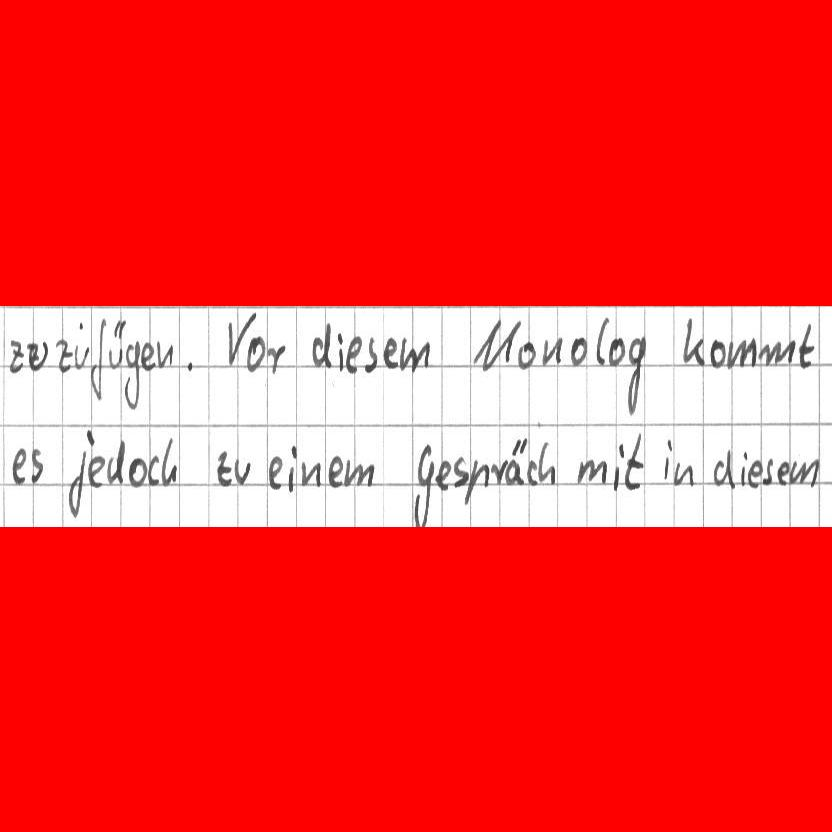Char: (470, 318, 520, 374), (66, 429, 93, 518), (412, 441, 433, 530), (625, 332, 646, 417), (222, 312, 250, 368), (89, 316, 107, 401), (122, 339, 141, 411), (623, 431, 646, 490), (463, 458, 491, 504), (680, 315, 705, 366), (724, 335, 759, 371), (397, 335, 430, 373), (309, 320, 335, 368), (757, 337, 797, 367), (712, 447, 738, 491), (341, 456, 375, 489), (787, 455, 820, 489), (505, 436, 526, 487), (797, 321, 818, 371), (107, 317, 126, 372), (106, 440, 128, 487), (537, 439, 558, 487), (160, 436, 178, 487), (575, 457, 607, 485), (610, 440, 626, 496), (244, 333, 266, 372), (263, 340, 286, 377), (539, 334, 563, 368), (25, 339, 49, 372), (593, 316, 608, 368), (284, 442, 298, 495), (345, 333, 363, 374), (605, 335, 626, 370), (126, 455, 148, 487), (568, 335, 589, 368), (156, 339, 179, 369), (362, 335, 380, 373), (216, 449, 233, 489), (671, 461, 698, 486), (515, 339, 536, 371), (433, 458, 452, 493), (382, 333, 400, 369), (265, 454, 283, 490), (326, 453, 344, 489), (452, 455, 471, 489), (6, 337, 24, 372), (54, 338, 72, 373), (87, 454, 105, 489), (231, 458, 252, 487), (300, 459, 321, 488), (708, 336, 727, 368), (745, 458, 764, 490), (12, 446, 26, 487), (139, 341, 156, 373), (146, 452, 161, 488), (662, 436, 674, 481), (29, 446, 43, 484), (760, 455, 775, 487), (73, 342, 91, 368), (491, 457, 507, 485), (336, 330, 346, 374), (738, 449, 749, 486), (777, 459, 790, 487), (526, 457, 538, 487), (183, 355, 196, 375)
